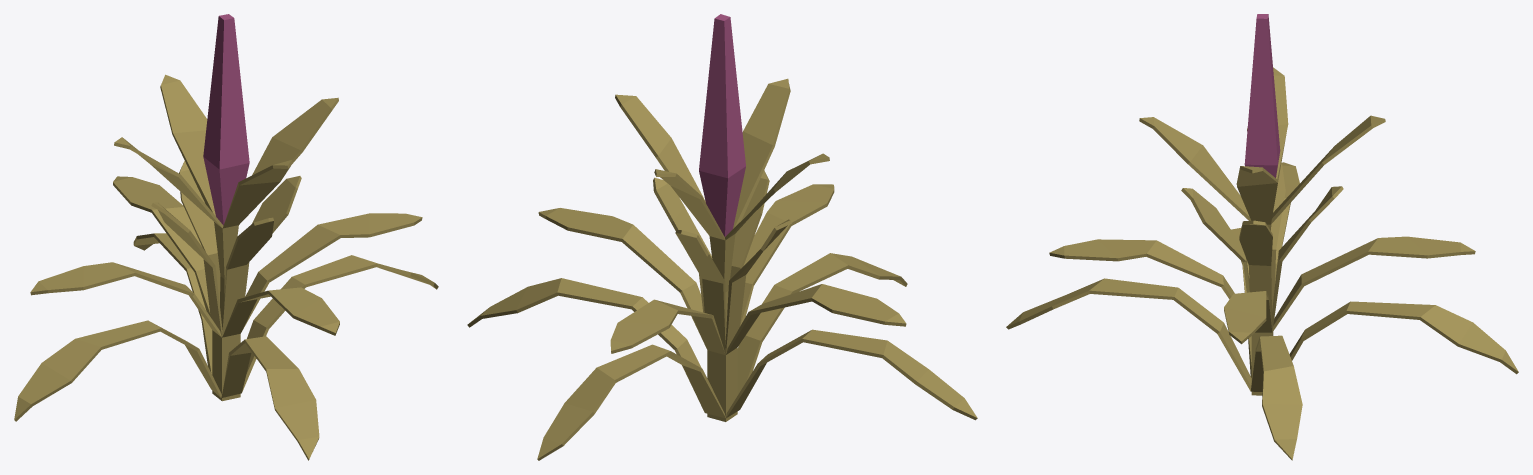
The model's file is Plant_5.glb.
The picture shows the model from 3 angles, left to right: view 1: azimuth 30°, elevation 25°; view 2: azimuth 150°, elevation 25°; view 3: azimuth 270°, elevation 25°; orthographic projection. The views are drawn at different scales.
Parts seen in each view (by area): view 1: Plant_5_Plane.001; view 2: Plant_5_Plane.001; view 3: Plant_5_Plane.001.
Boxes of the visible parts, x1,y1,x2,y2 form: Plant_5_Plane.001: (14, 14, 438, 460); Plant_5_Plane.001: (467, 14, 977, 460); Plant_5_Plane.001: (1006, 14, 1518, 460).
Size of the model in its own units: 1.74 by 1.39 by 1.72.
